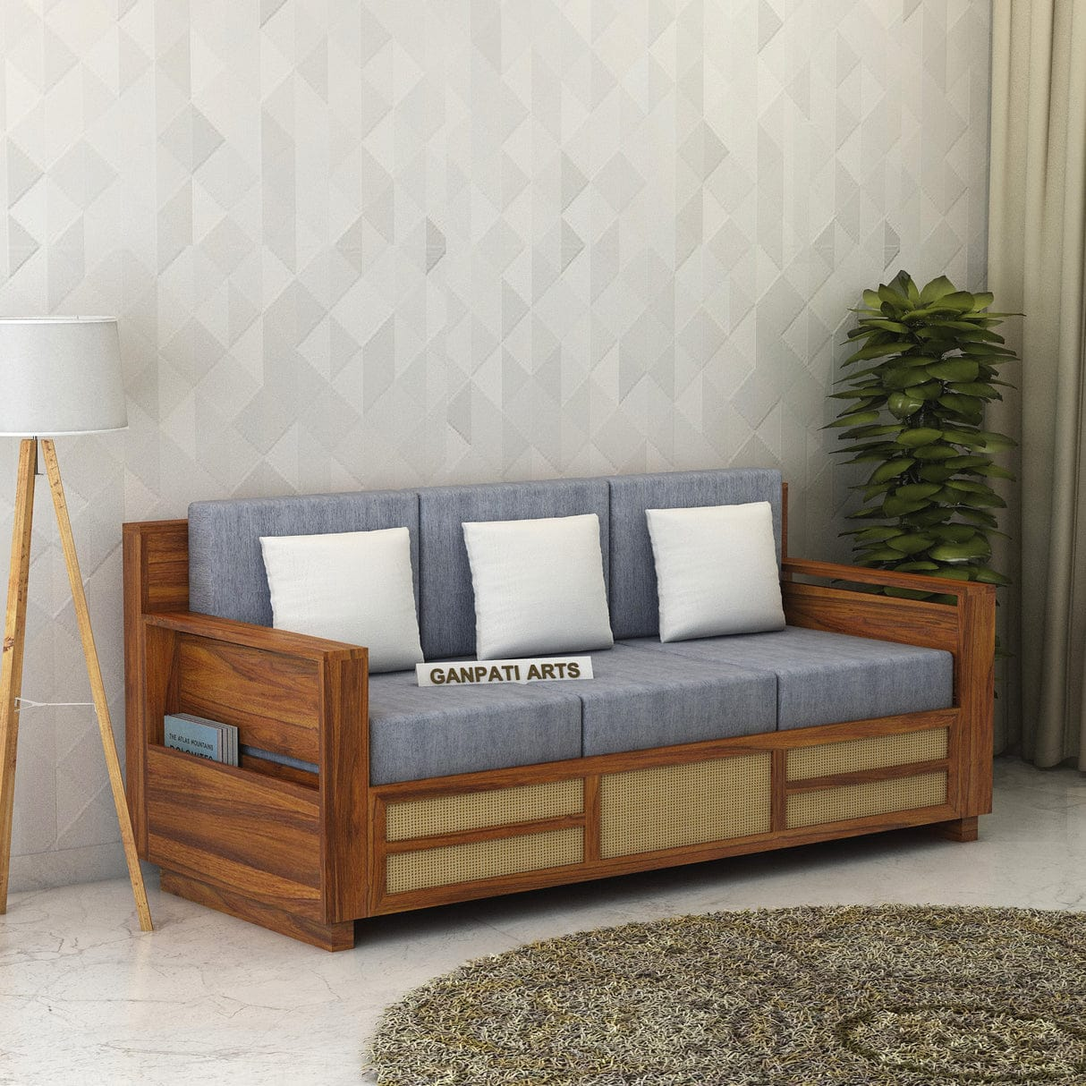3seatersofa: (124, 469, 993, 950)
backrest: (190, 469, 780, 658), (123, 519, 187, 857)
base: (363, 706, 972, 915)
leftarmrest: (784, 556, 994, 817)
leg: (161, 869, 353, 949), (929, 819, 977, 841)
pillow: (260, 528, 422, 672), (462, 514, 611, 658), (638, 502, 784, 641)
rightarmrest: (137, 613, 369, 920)
